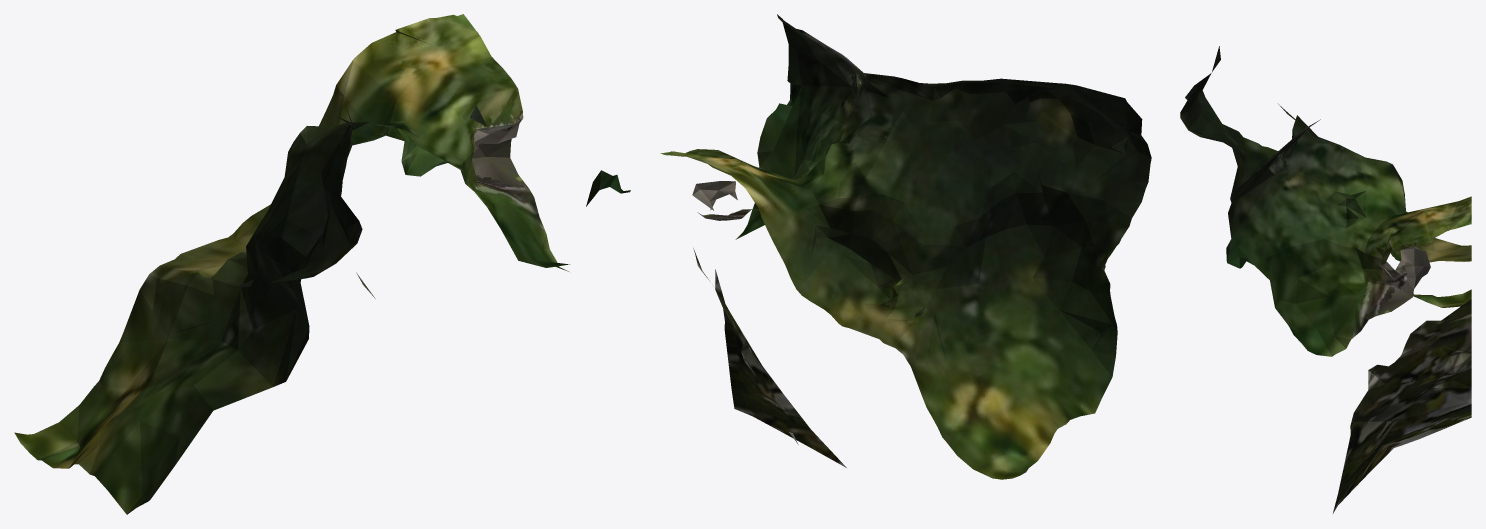
3 renders of one model, left to right at view 1: azimuth 30°, elevation 25°; view 2: azimuth 150°, elevation 25°; view 3: azimuth 270°, elevation 25°, orthographic. The views are drawn at different scales.
Size of the model in its own units: 0.8373 by 0.8374 by 0.6473.
4 materials, 4 textured.
